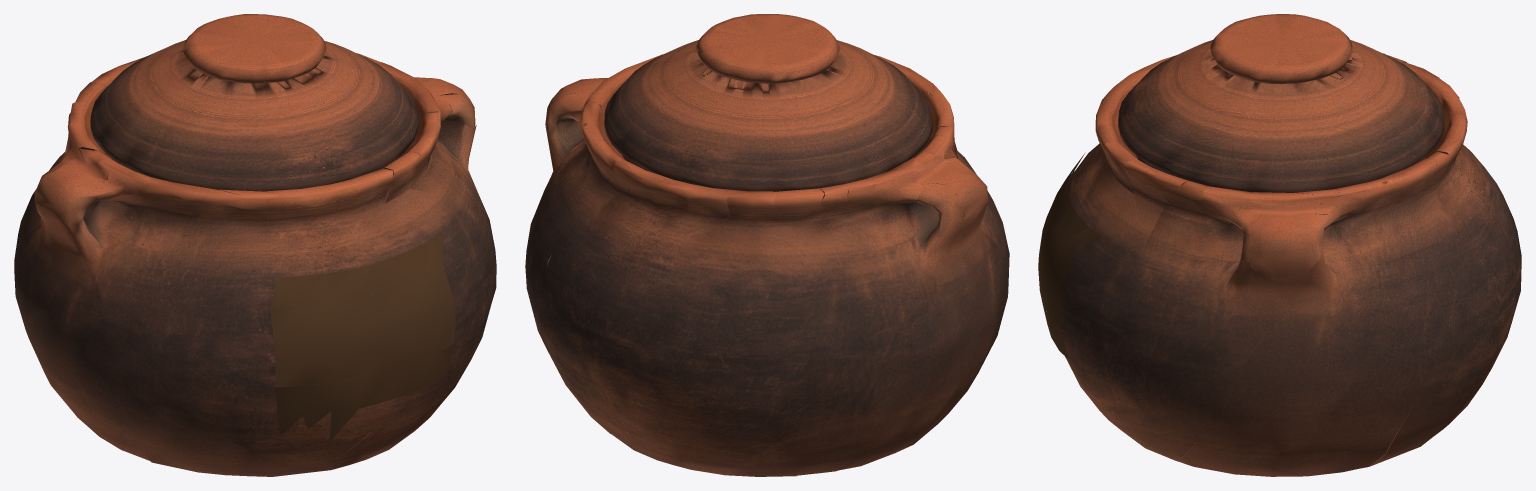
Rendered from mdl_ra4_olla.fbx.
3 views of the same model, side by side, from view 1: azimuth 30°, elevation 25°; view 2: azimuth 150°, elevation 25°; view 3: azimuth 270°, elevation 25° (orthographic).
Parts seen in each view (by area): view 1: SM_olla, SM_olla_Tapa, DirtPatch; view 2: SM_olla, SM_olla_Tapa; view 3: SM_olla, SM_olla_Tapa, DirtPatch.
Boxes of the visible parts, bbox=[...] form: SM_olla: bbox=[14, 53, 496, 476]; SM_olla_Tapa: bbox=[90, 14, 418, 191]; DirtPatch: bbox=[271, 230, 455, 440]; SM_olla: bbox=[525, 54, 1009, 476]; SM_olla_Tapa: bbox=[604, 14, 932, 191]; SM_olla: bbox=[1047, 53, 1521, 476]; SM_olla_Tapa: bbox=[1118, 14, 1444, 192]; DirtPatch: bbox=[1038, 153, 1101, 358].
Size of what is drawn, in the model's own units: 0.2639 by 0.2204 by 0.2641.
